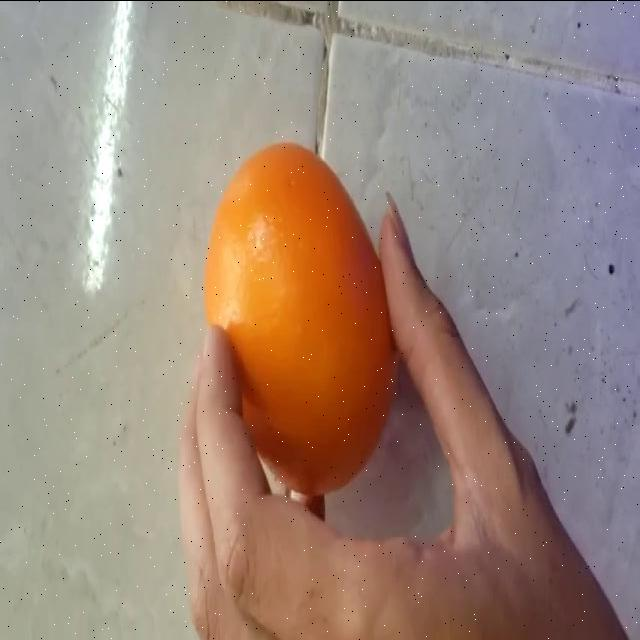Orange: (201, 141, 398, 497)
